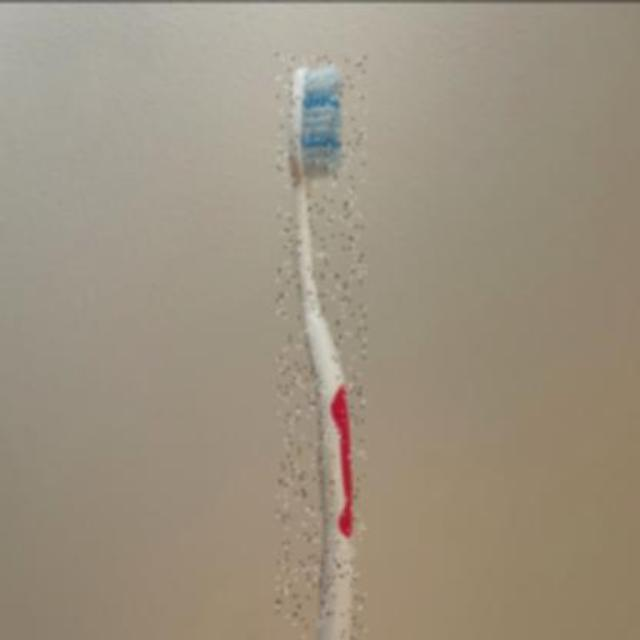toothbrush: (276, 52, 366, 640)
